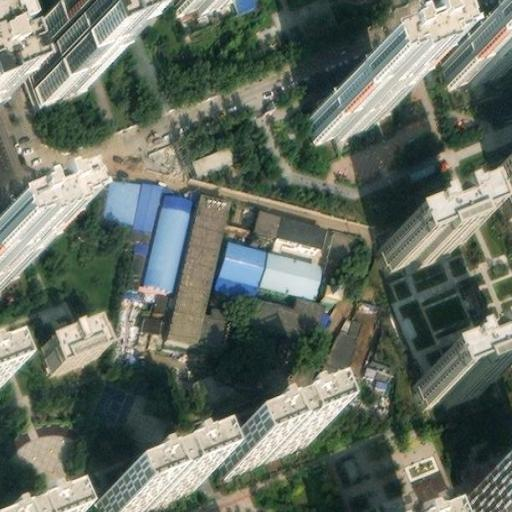building: (167, 194, 231, 336), (192, 345, 294, 410), (140, 188, 198, 291), (317, 300, 381, 393), (23, 11, 92, 94), (101, 456, 195, 512), (218, 410, 309, 466), (380, 211, 466, 268), (424, 361, 508, 417), (0, 0, 48, 98), (240, 288, 324, 342), (306, 83, 386, 138), (124, 179, 163, 289), (435, 30, 512, 84), (116, 382, 177, 443), (259, 241, 328, 293), (212, 231, 268, 291), (42, 319, 101, 366), (91, 170, 139, 218), (356, 347, 396, 393), (136, 284, 176, 330), (273, 212, 329, 244), (194, 141, 244, 176), (467, 474, 512, 512), (0, 234, 30, 281), (319, 260, 351, 299), (247, 207, 278, 242), (199, 305, 229, 340)
